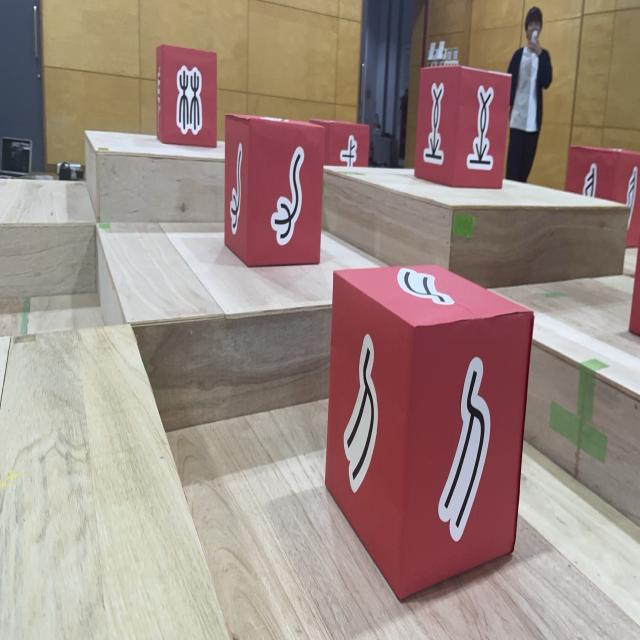10: (437, 356, 492, 541), (343, 332, 378, 494), (396, 267, 454, 305)
11: (626, 166, 637, 233), (583, 162, 597, 195)
13: (271, 146, 305, 246), (230, 141, 243, 236)
2: (176, 64, 203, 136)
7: (466, 84, 494, 171), (424, 81, 445, 165)
9: (338, 133, 358, 168)
fighter: (324, 263, 534, 603), (224, 112, 325, 266), (414, 64, 512, 190), (564, 145, 640, 249), (156, 44, 217, 148), (310, 119, 370, 168), (630, 232, 640, 336)
